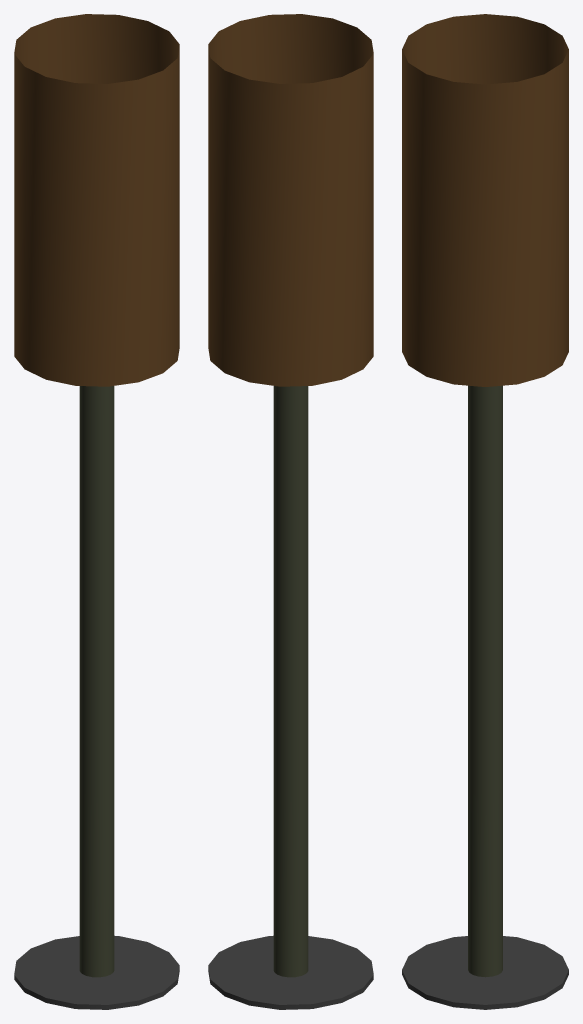
Rendered from standing Lamp.fbx.
The picture shows the model from 3 angles, left to right: view 1: azimuth 30°, elevation 25°; view 2: azimuth 150°, elevation 25°; view 3: azimuth 270°, elevation 25°; orthographic projection.
Parts seen in each view (by area): view 1: Cylinder_2, Cylinder, Cylinder_1; view 2: Cylinder_2, Cylinder, Cylinder_1; view 3: Cylinder_2, Cylinder, Cylinder_1.
Part boxes in pixels (box(x1,y1,x2,y2)): Cylinder_2: box(14, 14, 179, 386); Cylinder: box(79, 386, 114, 977); Cylinder_1: box(14, 935, 179, 1009); Cylinder_2: box(208, 14, 373, 386); Cylinder: box(273, 386, 308, 977); Cylinder_1: box(208, 935, 373, 1009); Cylinder_2: box(402, 14, 568, 386); Cylinder: box(468, 385, 502, 977); Cylinder_1: box(402, 936, 568, 1009).
Size of the model in its own units: 100 by 612 by 100.
